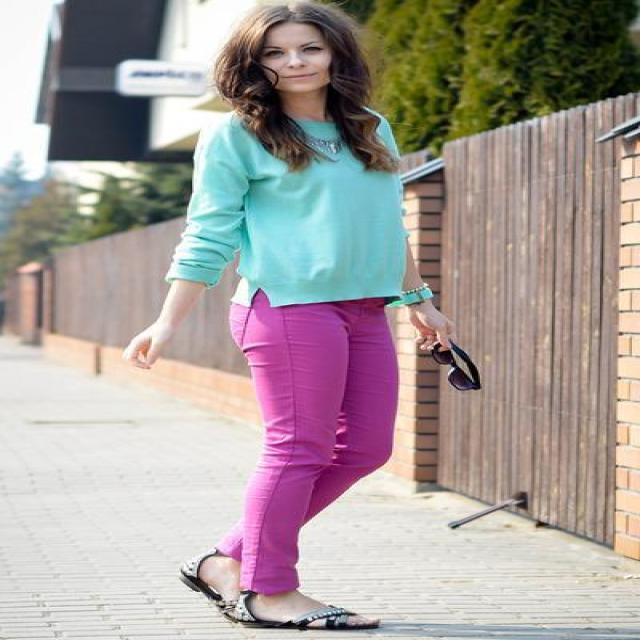jacket: (363, 106, 394, 140)
pants: (186, 294, 397, 600)
shirt: (165, 116, 440, 310)
shoe: (181, 550, 363, 630)
skirt: (442, 347, 480, 389)
